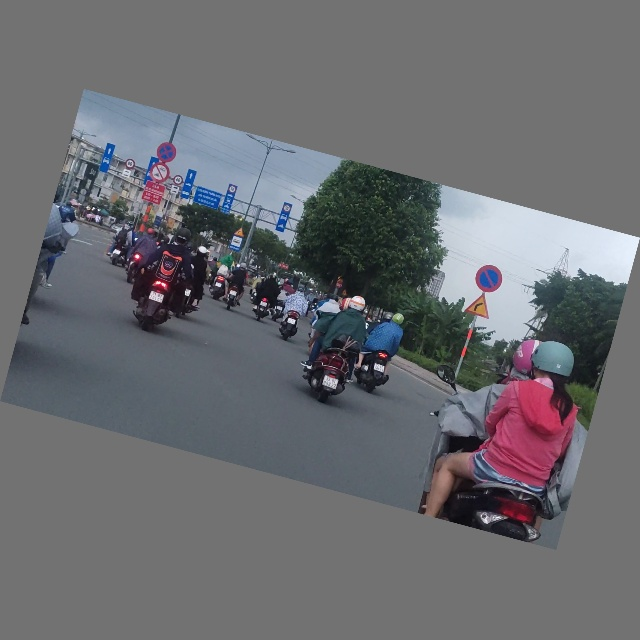I.434a: (228, 234, 244, 253)
P.111: (148, 161, 172, 185)
P.127*50: (283, 204, 292, 213), (228, 186, 237, 195)
P.127*60: (173, 175, 184, 186)
P.127*80: (124, 158, 137, 171)
P.130: (154, 141, 178, 166)
P.131a: (471, 261, 506, 296)
S.505a*Xe tai va cong: (169, 184, 180, 196)
W.201b: (464, 291, 495, 321), (233, 227, 246, 238)
